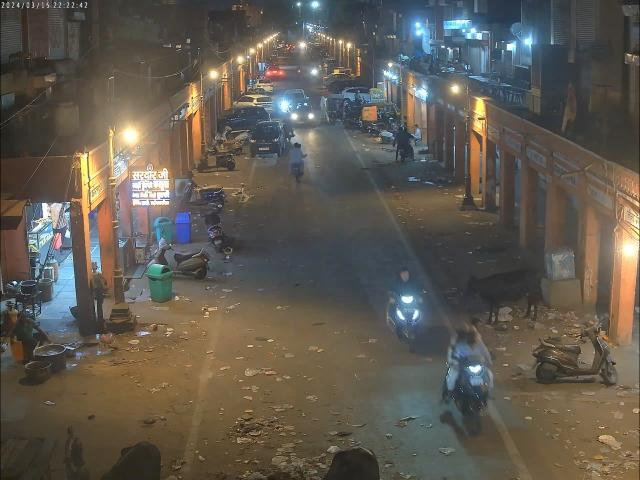car: (280, 86, 320, 129)
helmet: (454, 324, 481, 346)
motorbike-rider: (438, 322, 494, 437), (286, 140, 312, 186)
scooty: (530, 329, 618, 384), (386, 263, 430, 355), (202, 207, 232, 260)
scooty-rider: (158, 241, 212, 281)
